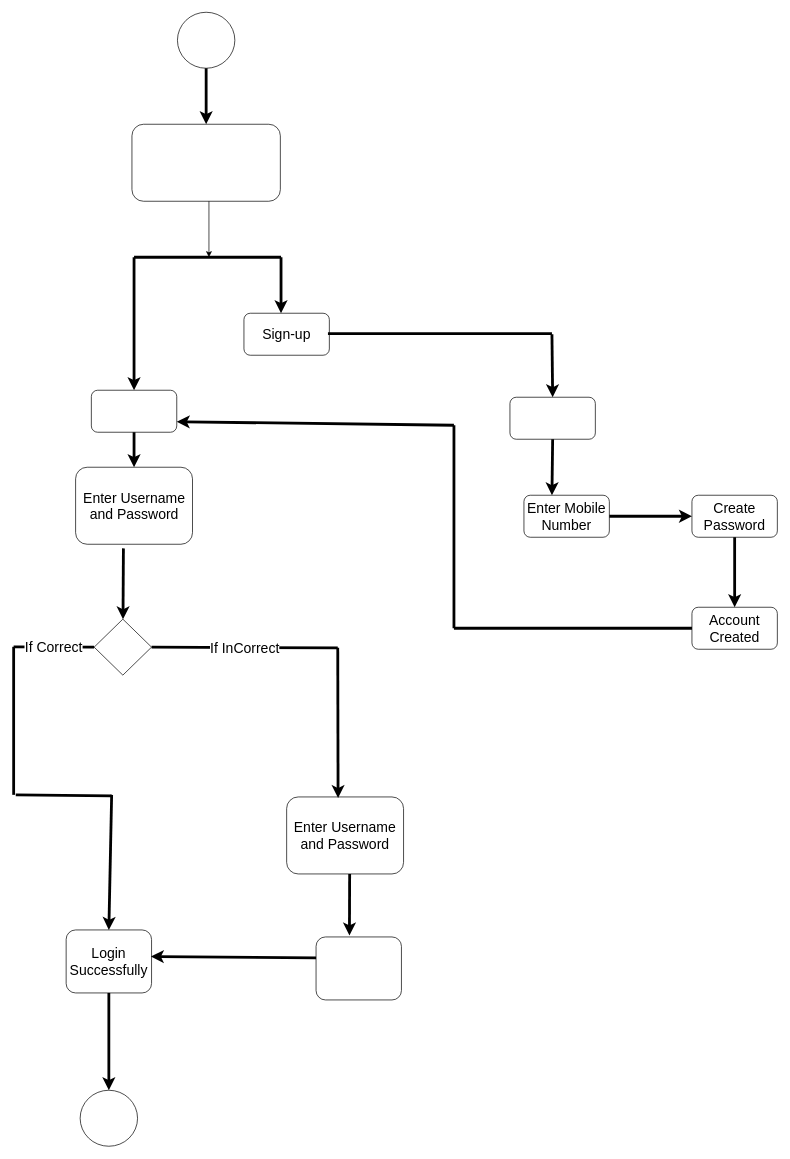
This 790x1159 diagram has some shape labels left out. The box of each missing label's shape, as (x1, y1, x2, y2) in pixels:
Create Username: (509, 397, 595, 439)
Enter Correct: (315, 936, 401, 1000)
Login: (91, 390, 177, 432)
Open Web-Side: (131, 124, 280, 201)
